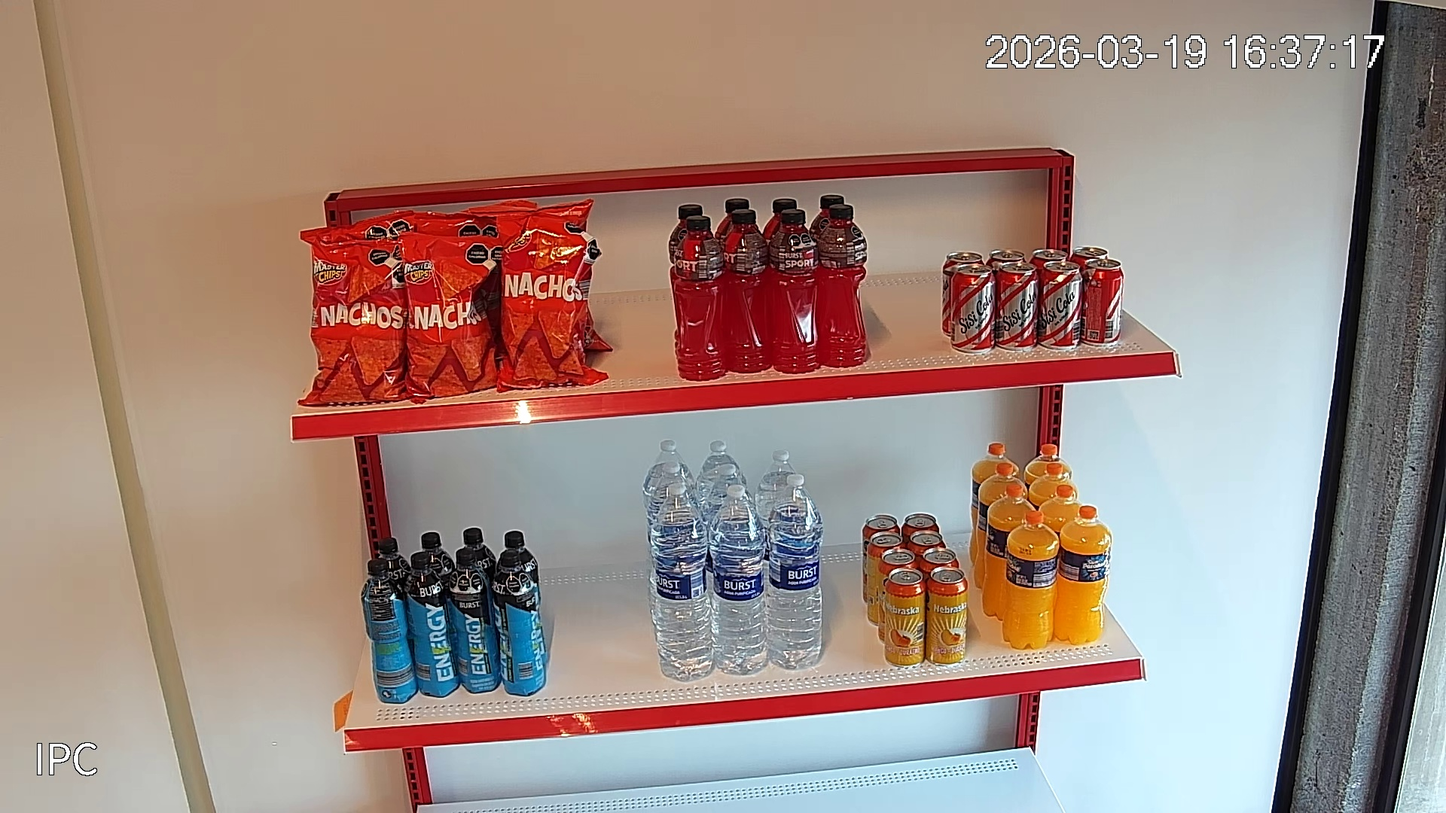agua_burst: (767, 474, 824, 670), (702, 464, 766, 543), (647, 461, 703, 537)
burst_energetica_roja: (814, 203, 869, 368), (716, 195, 752, 249), (809, 195, 844, 243)
burst_energy: (404, 552, 461, 697), (493, 549, 543, 693), (463, 526, 497, 593)
nachos_naturasol: (301, 235, 410, 408), (410, 212, 498, 235), (586, 301, 615, 349)
nebraska_mango: (883, 566, 927, 667), (865, 531, 905, 626), (909, 530, 945, 562)
sisi_cola: (995, 262, 1038, 350), (1081, 258, 1124, 346), (941, 251, 984, 338)
sun_paradise_naranja: (1003, 510, 1063, 648), (974, 463, 1029, 587), (1025, 443, 1073, 486)
